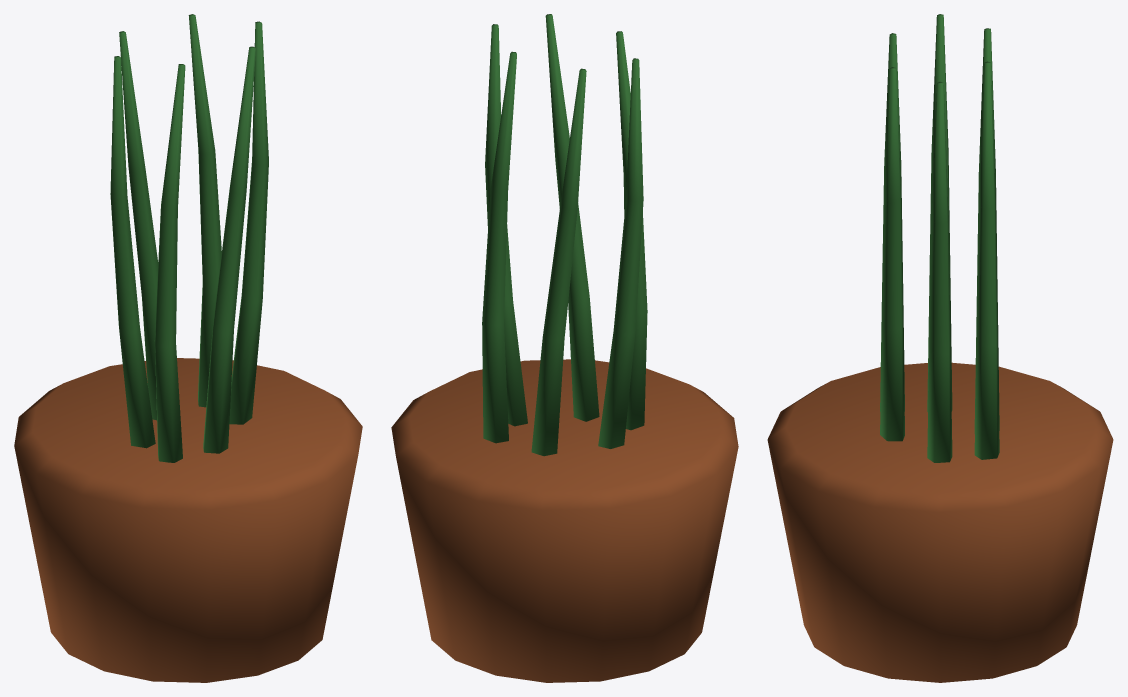
The model's file is seaweed_planter_v0.glb.
3 views of the same model, side by side, from view 1: azimuth 30°, elevation 25°; view 2: azimuth 150°, elevation 25°; view 3: azimuth 270°, elevation 25° (orthographic).
Parts seen in each view (by area): view 1: seaweed_planter_v0; view 2: seaweed_planter_v0; view 3: seaweed_planter_v0.
Part boxes in pixels (x1,y1,x2,y2): seaweed_planter_v0: (14, 14, 362, 682); seaweed_planter_v0: (391, 14, 738, 682); seaweed_planter_v0: (767, 14, 1113, 682).
Size of the model in its own units: 0.76 by 1.4 by 0.76.
